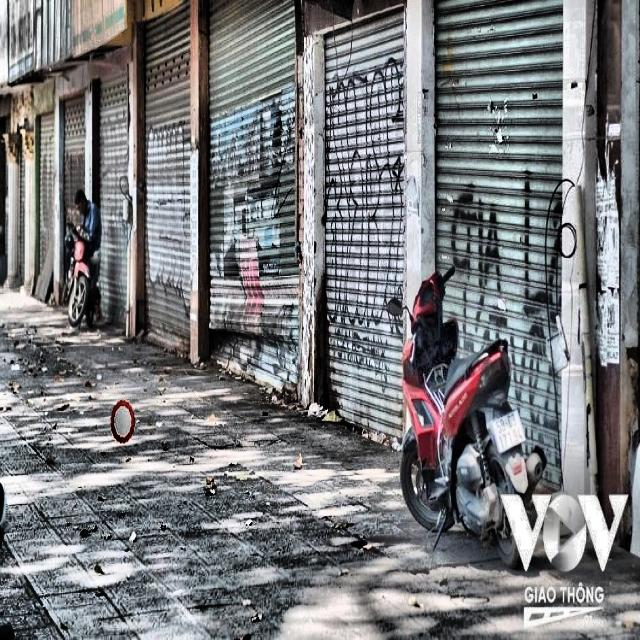Bien_bao_duong_cam: (108, 396, 136, 446)
